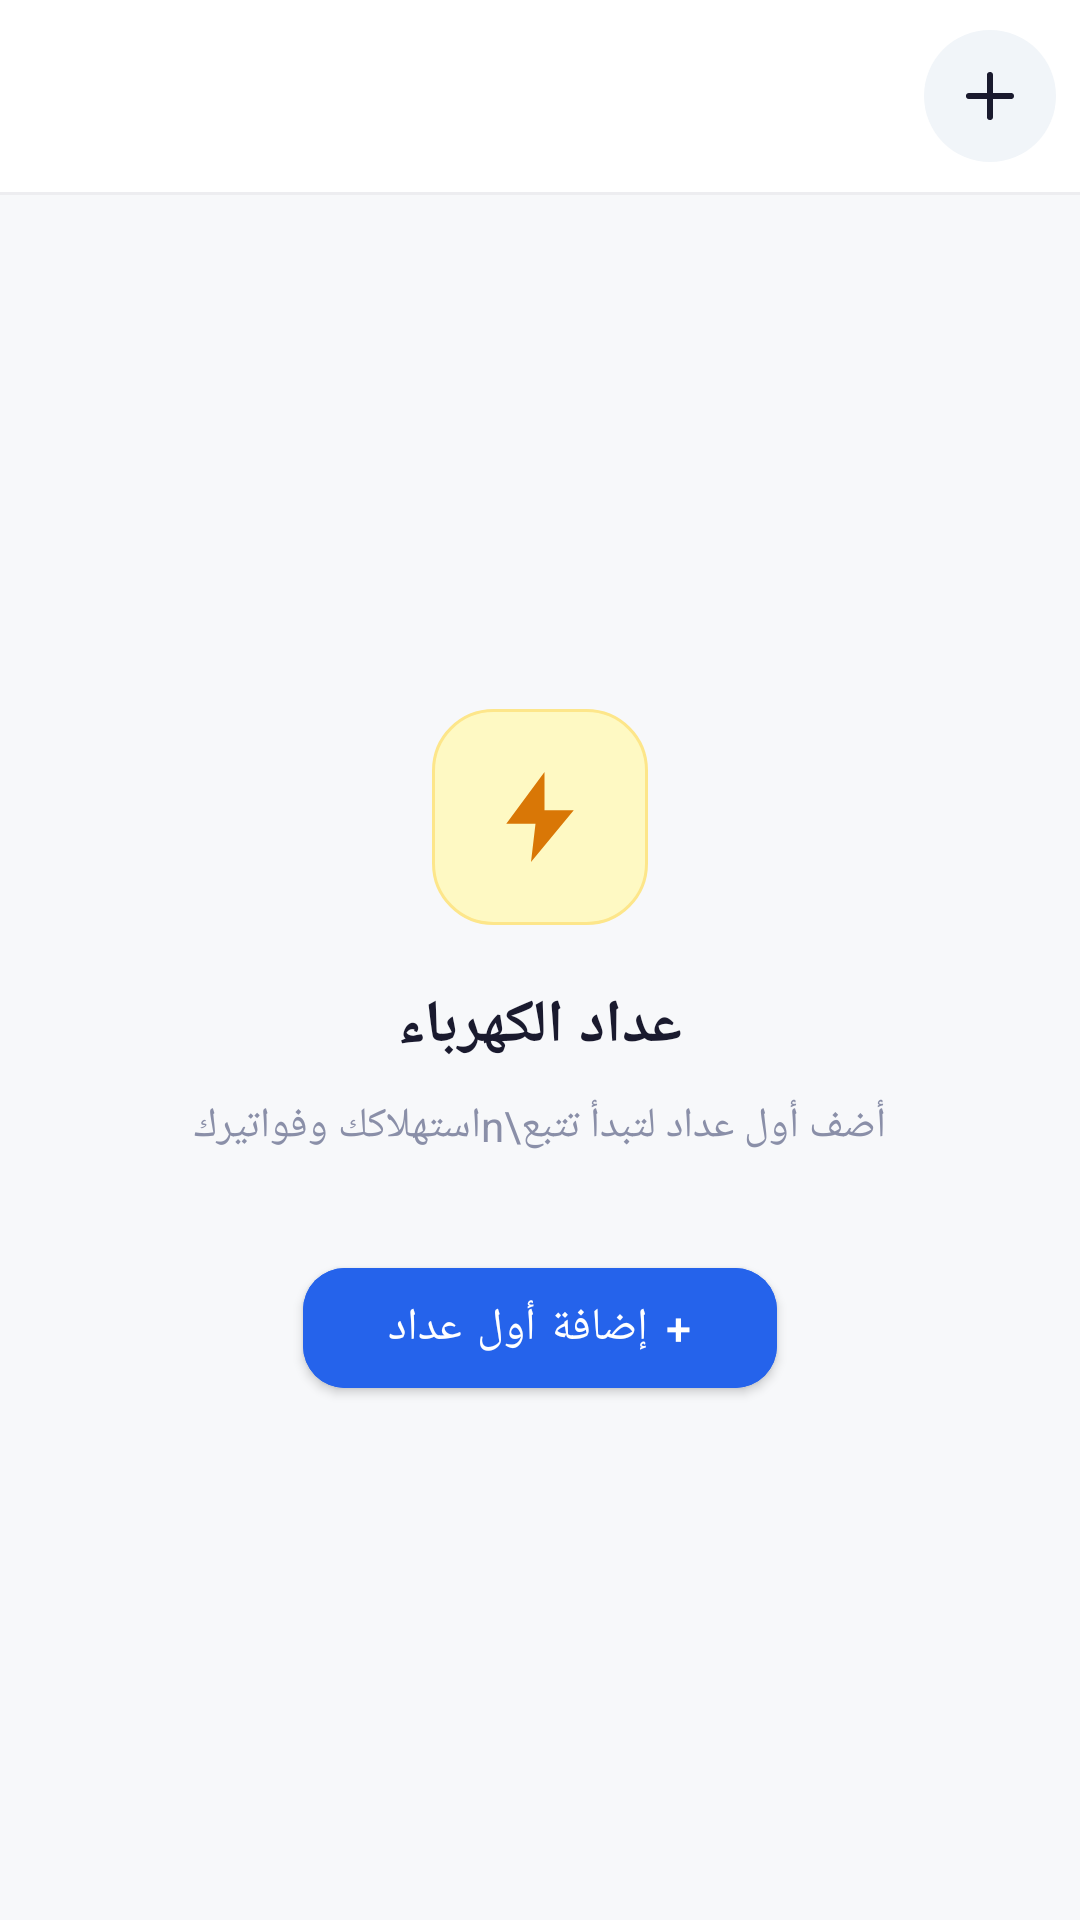

Icons on this 1080px x 1920px Android screen, each with its box as [x1,y1,x2,y2]:
إضافة عداد: [924,30,1056,162]
